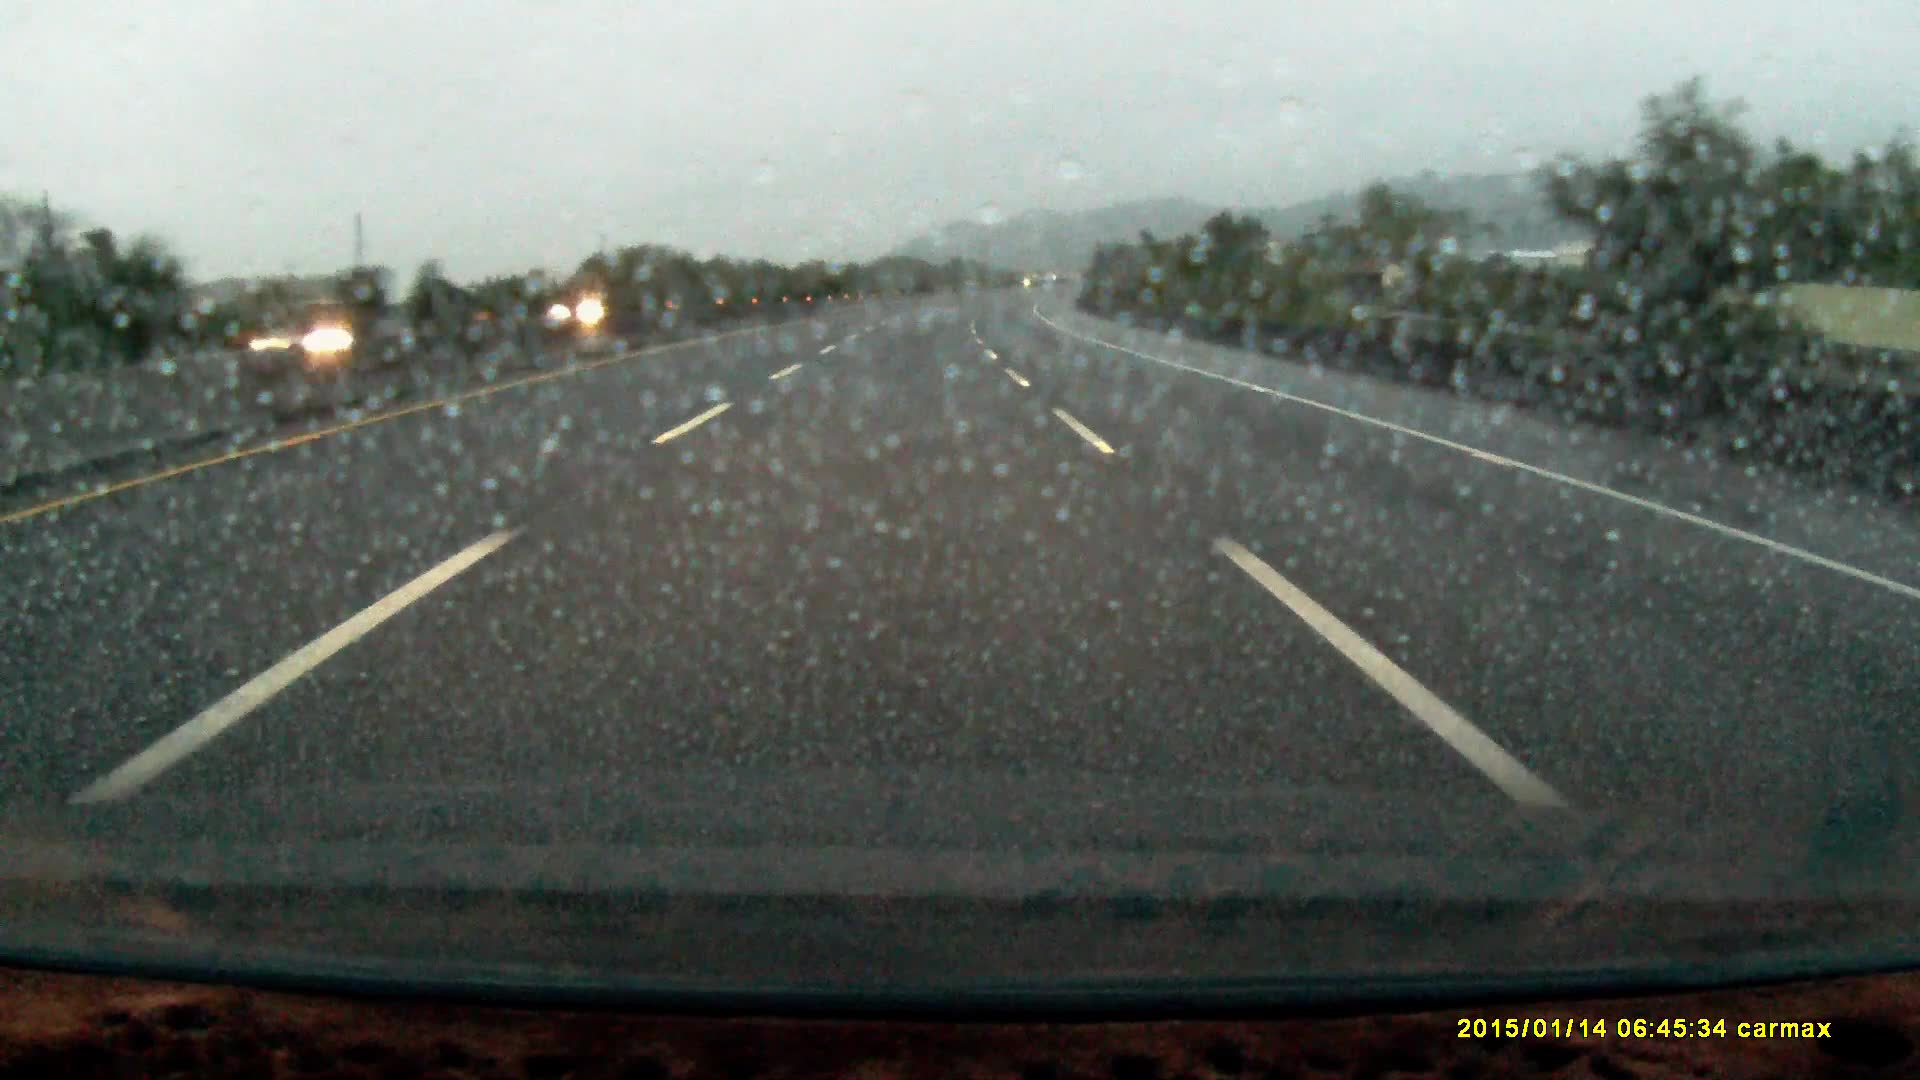vehicle: (233, 299, 423, 360), (549, 295, 626, 328)
